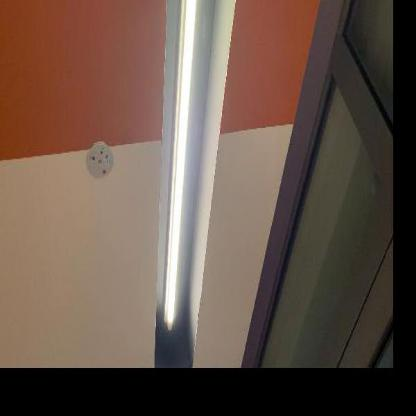light_on: (157, 0, 204, 337)
